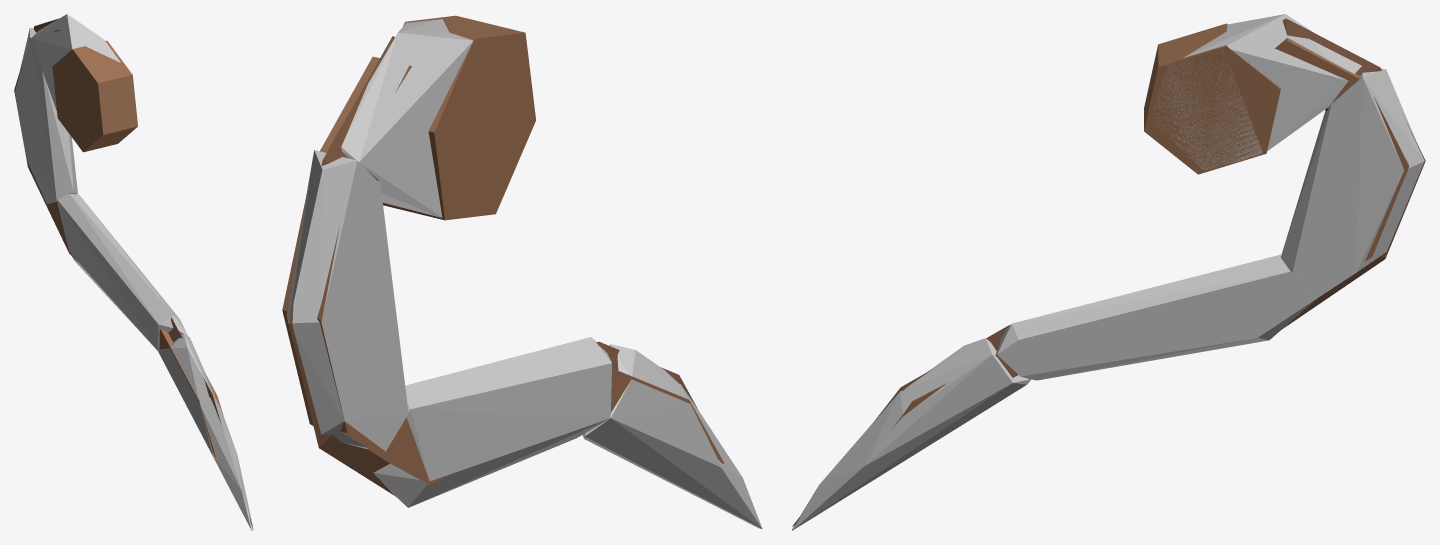
Rendered from SM_Prop_Clock_Pole_01_Hand_02.fbx.
The picture shows the model from 3 angles, left to right: view 1: azimuth 30°, elevation 25°; view 2: azimuth 150°, elevation 25°; view 3: azimuth 270°, elevation 25°; orthographic projection. The views are drawn at different scales.
Visible parts, largest first — view 1: SM_Prop_Clock_Pole_01_Hand_02_ConvexHulls, SM_Prop_Clock_Pole_01_Hand_02; view 2: SM_Prop_Clock_Pole_01_Hand_02_ConvexHulls, SM_Prop_Clock_Pole_01_Hand_02; view 3: SM_Prop_Clock_Pole_01_Hand_02_ConvexHulls, SM_Prop_Clock_Pole_01_Hand_02.
Part boxes in pixels (box(x1,y1,x2,y2)): SM_Prop_Clock_Pole_01_Hand_02_ConvexHulls: box(15, 14, 253, 530); SM_Prop_Clock_Pole_01_Hand_02: box(14, 18, 252, 527); SM_Prop_Clock_Pole_01_Hand_02_ConvexHulls: box(286, 19, 762, 529); SM_Prop_Clock_Pole_01_Hand_02: box(282, 15, 724, 496); SM_Prop_Clock_Pole_01_Hand_02_ConvexHulls: box(792, 14, 1424, 530); SM_Prop_Clock_Pole_01_Hand_02: box(792, 18, 1425, 526).
Bounding box in the file's own units: 5.48 × 64.34 × 57.61.
2 materials, 1 textured.
